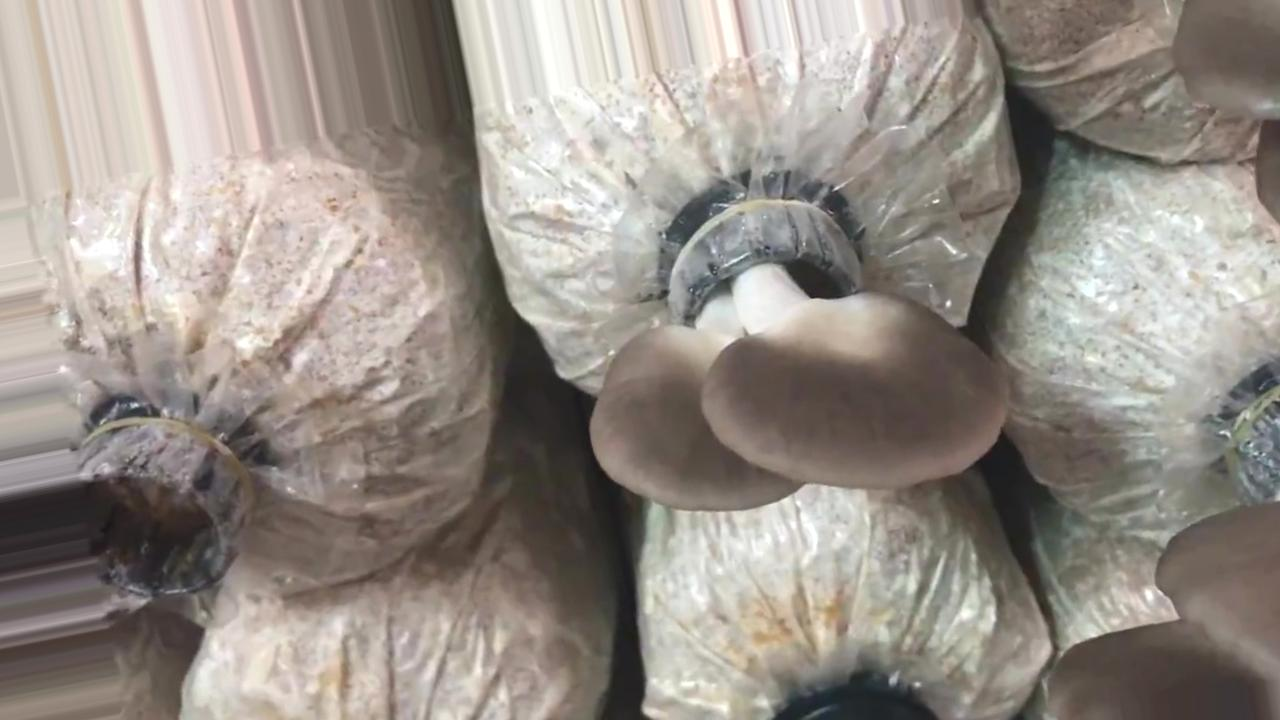nam: (586, 192, 1005, 514)
